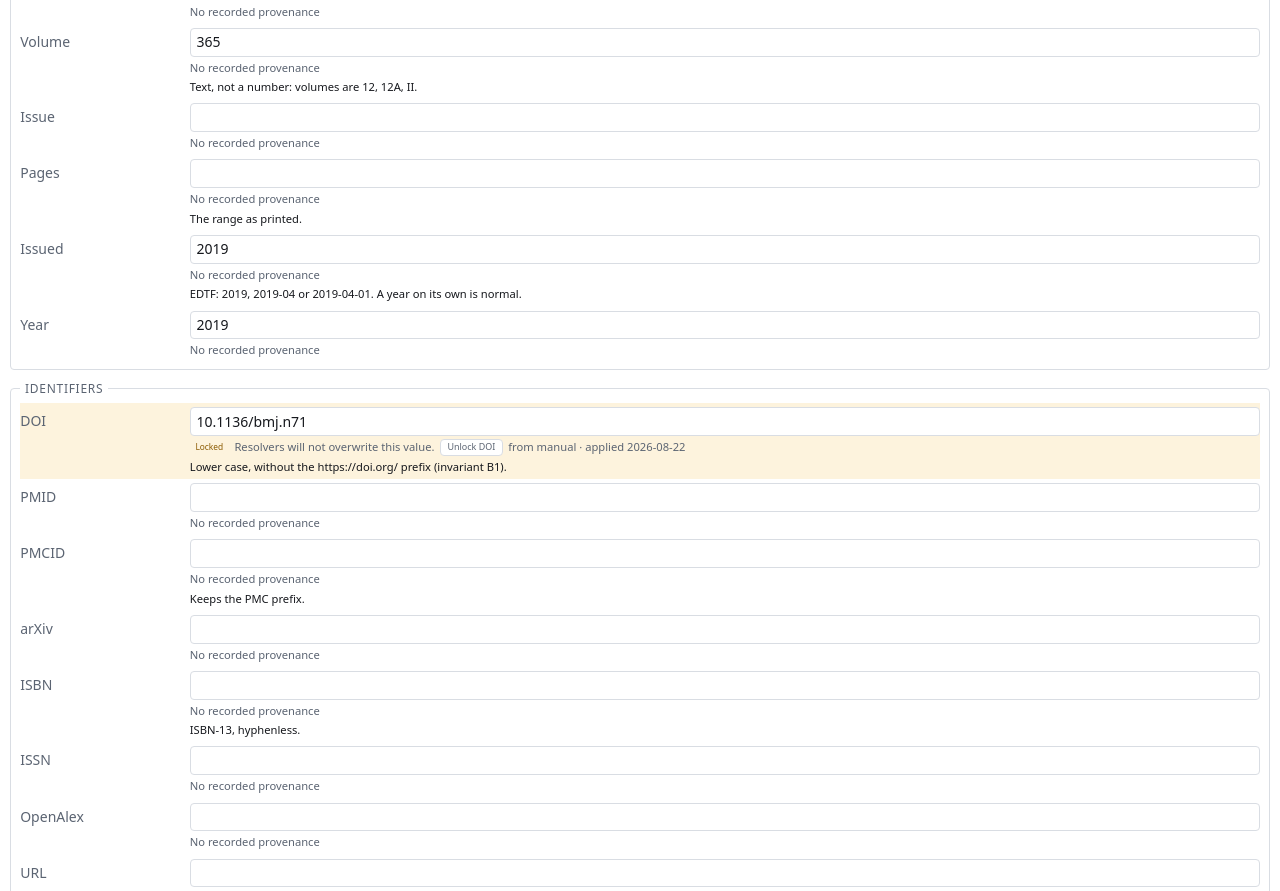
Test: the item pane › releases a lock by deleting it, and refetches the item to see the result
The image size is (1280, 891).
(page scrolled)
Click the button "Unlock DOI" at x=471, y=448, box [440, 439, 503, 456]
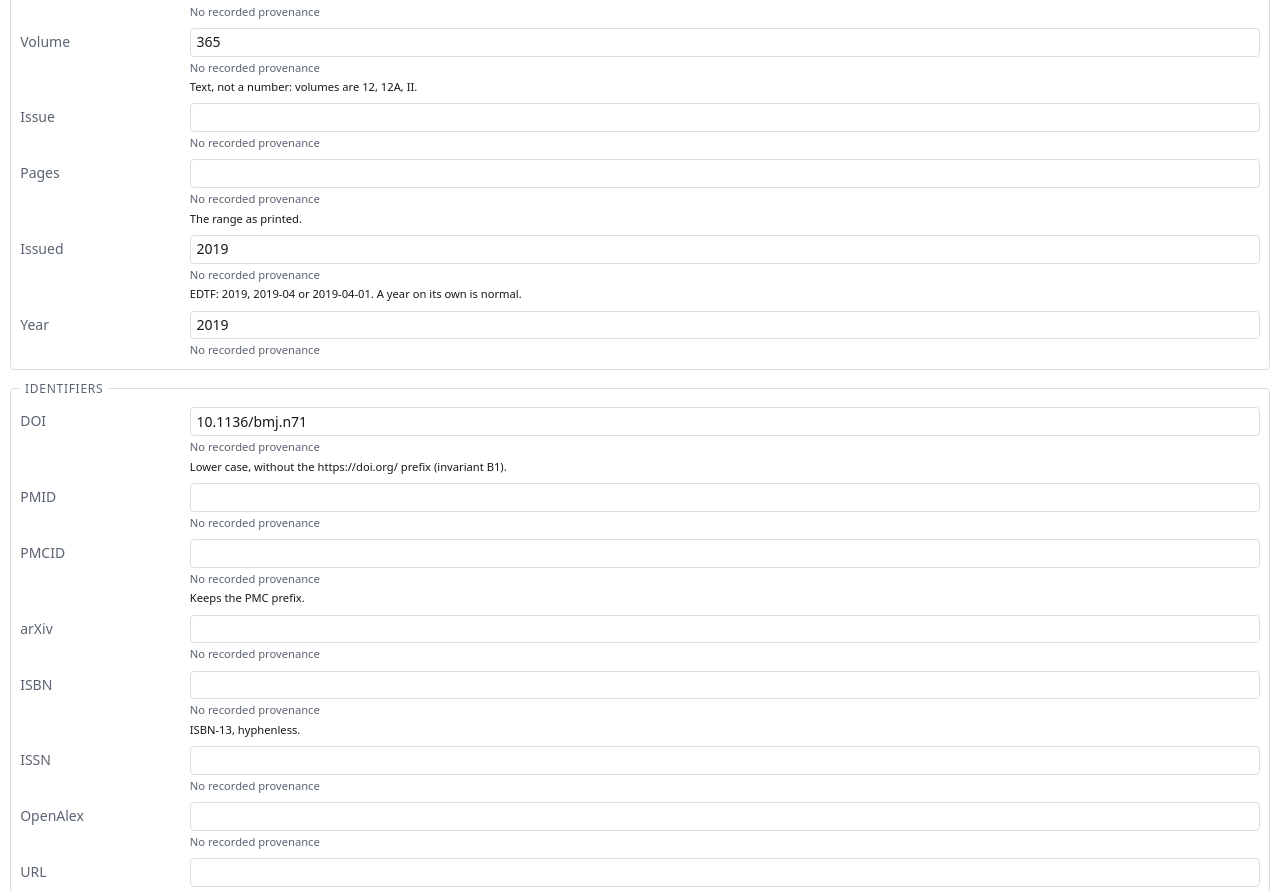
Check: the text with test id "lock-doi" is gone
